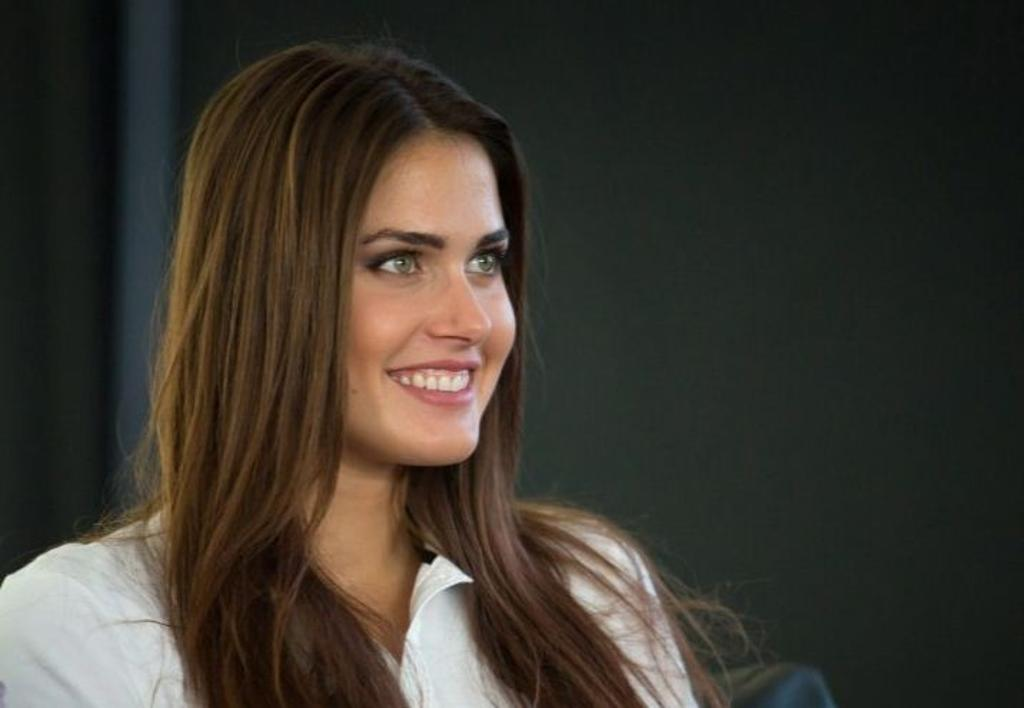face: (326, 162, 518, 460)
